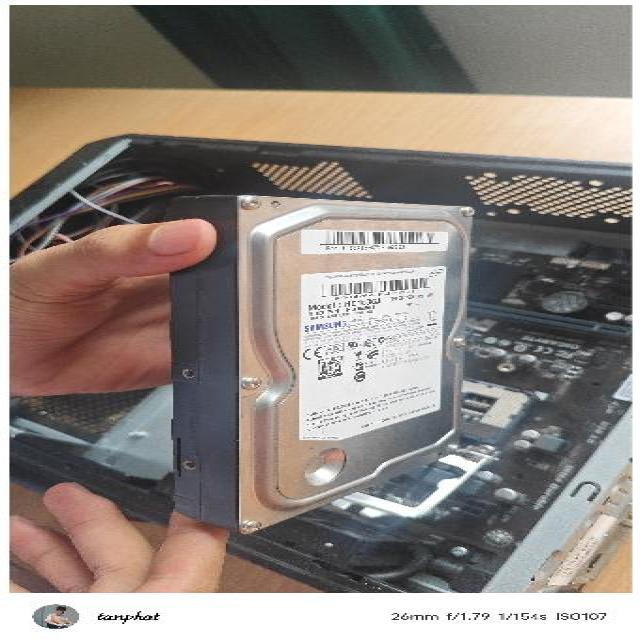DISK: (156, 191, 480, 536)
